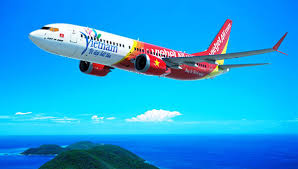maybay_dansu: (31, 15, 289, 83)
